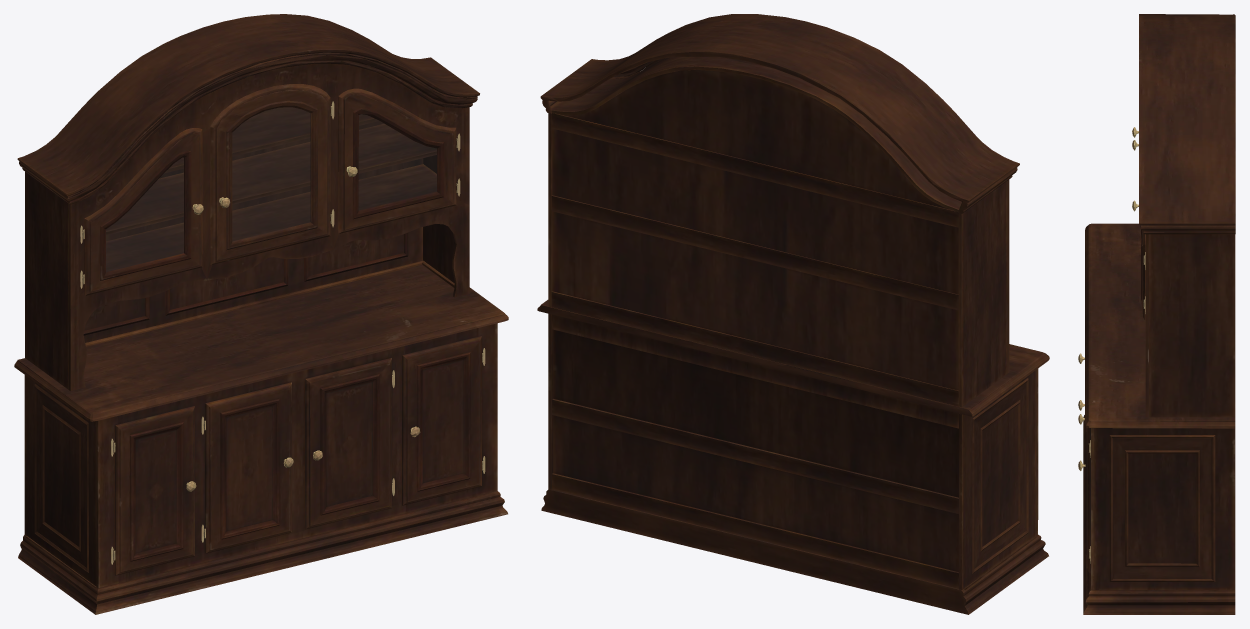
Rendered from vintage_cabinet.glb.
3 renders of one model, left to right at view 1: azimuth 30°, elevation 25°; view 2: azimuth 150°, elevation 25°; view 3: azimuth 270°, elevation 25°, orthographic. The views are drawn at different scales.
Parts seen in each view (by area): view 1: vintage_cabinet; view 2: vintage_cabinet; view 3: vintage_cabinet.
Boxes of the visible parts, box(x1,y1,x2,y2) form: vintage_cabinet: box(14, 14, 508, 614); vintage_cabinet: box(537, 14, 1049, 614); vintage_cabinet: box(1078, 14, 1235, 614).
Size of the model in its own units: 2.53 by 2.79 by 0.8373.
Materials: 3 (2 with a texture image).
